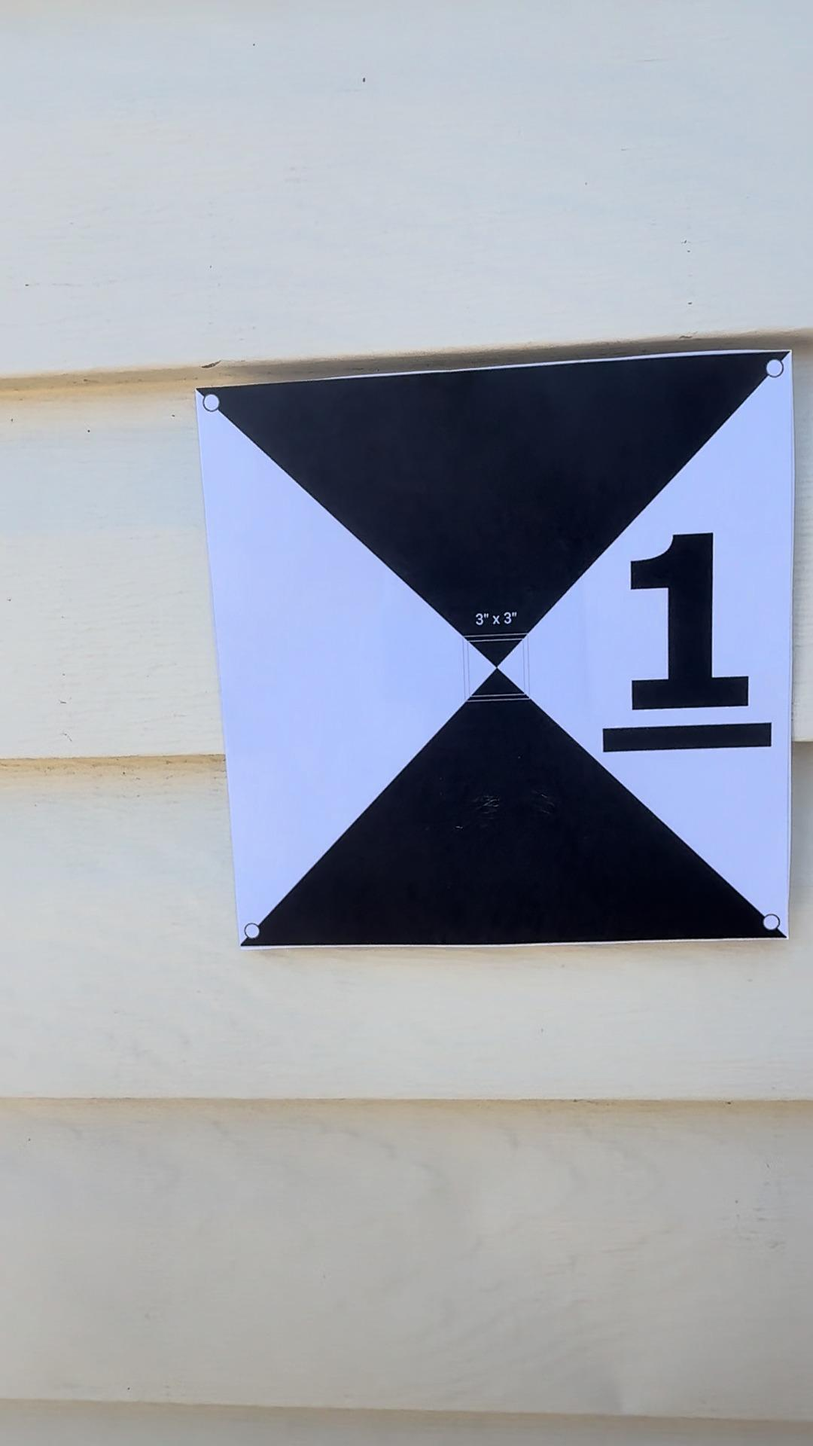target1: (190, 335, 802, 966)
